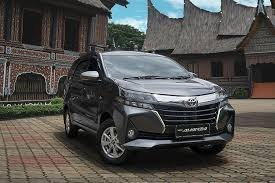mobil: (62, 51, 238, 168)
